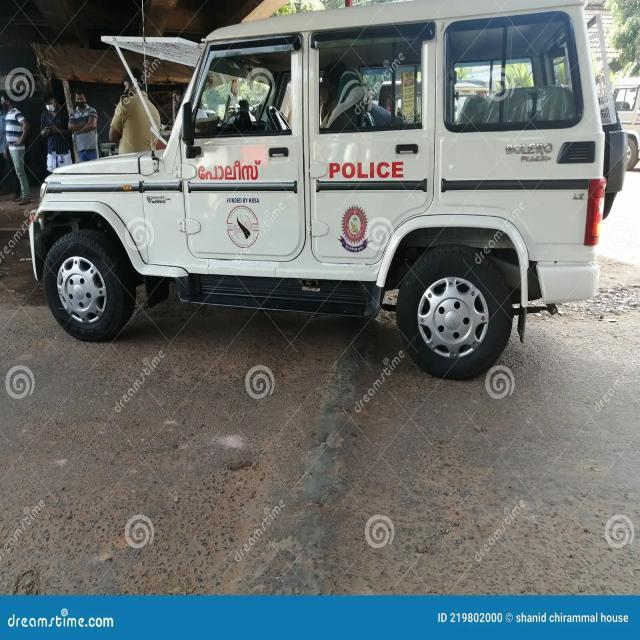Ambulance: (1, 184, 638, 596), (25, 1, 620, 384)
